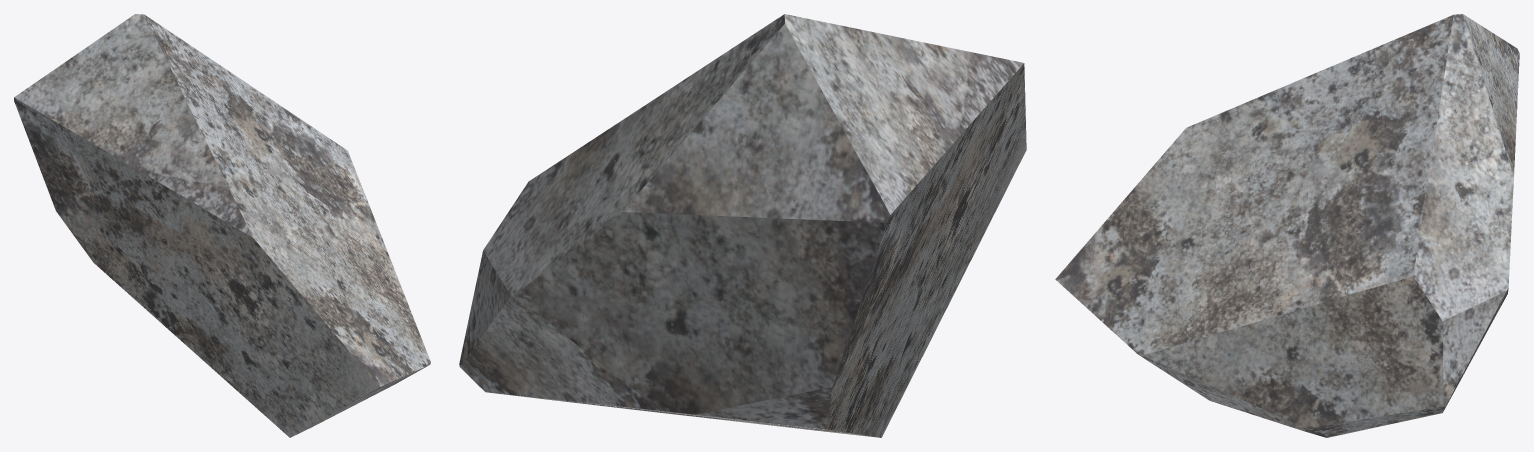
Rendered from Asteroid_Large_001_02_009_03_011.fbx.
The picture shows the model from 3 angles, left to right: view 1: azimuth 30°, elevation 25°; view 2: azimuth 150°, elevation 25°; view 3: azimuth 270°, elevation 25°; orthographic projection. The views are drawn at different scales.
Visible parts, largest first — view 1: Asteroid_Large_001_02_009_03_011; view 2: Asteroid_Large_001_02_009_03_011; view 3: Asteroid_Large_001_02_009_03_011.
Part boxes in pixels (bbox=[...]): Asteroid_Large_001_02_009_03_011: bbox=[14, 14, 430, 437]; Asteroid_Large_001_02_009_03_011: bbox=[459, 14, 1026, 437]; Asteroid_Large_001_02_009_03_011: bbox=[1055, 14, 1519, 437].
Size of the model in its own units: 12.92 by 14.14 by 16.3.
